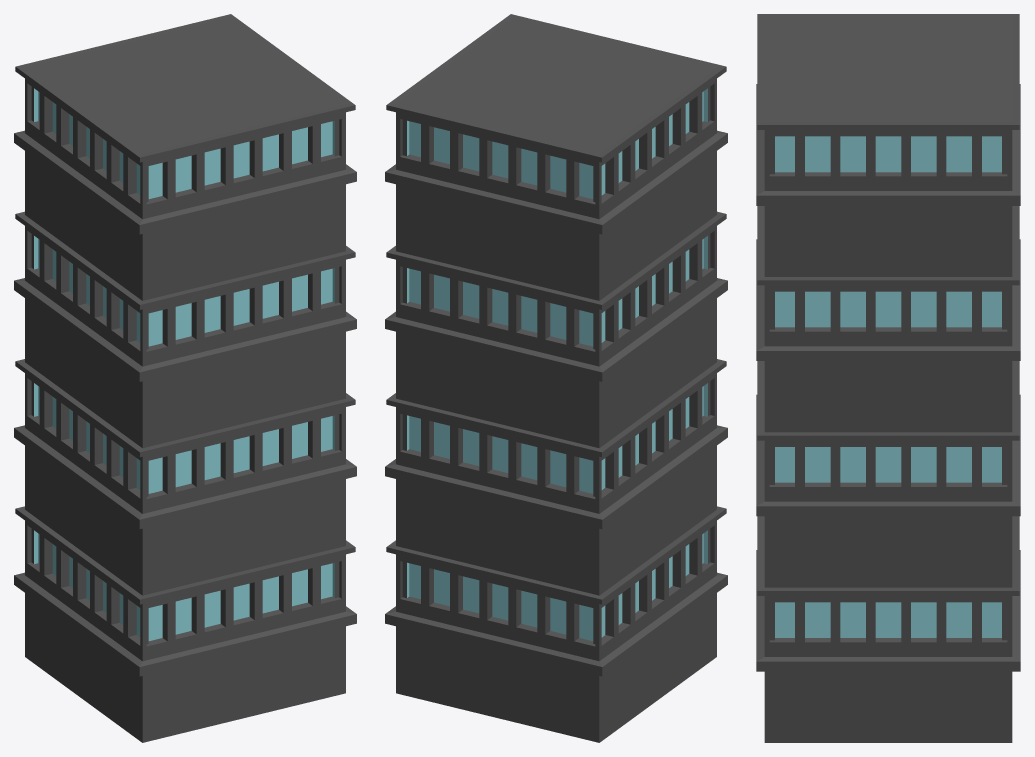
File: Building 1.fbx
3 renders of one model, left to right at view 1: azimuth 30°, elevation 25°; view 2: azimuth 150°, elevation 25°; view 3: azimuth 270°, elevation 25°, orthographic. The views are drawn at different scales.
Visible parts, largest first — view 1: Cube; view 2: Cube; view 3: Cube.
Boxes of the visible parts, box(x1,y1,x2,y2) form: Cube: box(14, 14, 356, 742); Cube: box(385, 14, 727, 742); Cube: box(756, 14, 1020, 742).
Bounding box in the file's own units: 3147 × 8150 × 3147.
